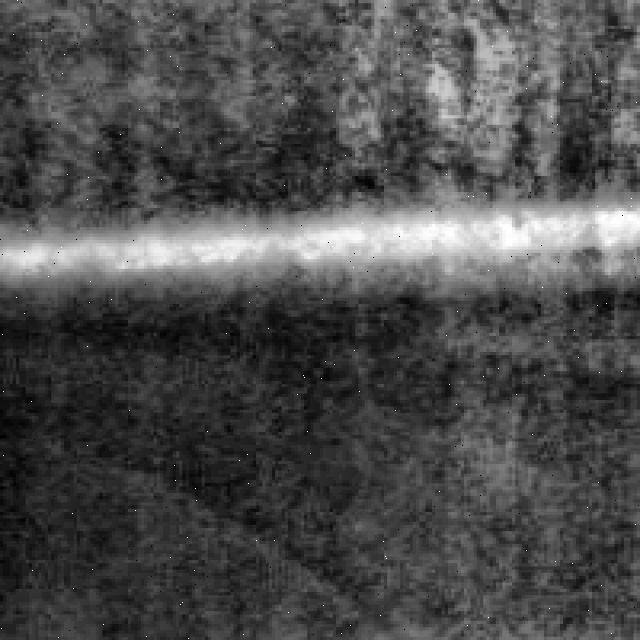Inclusion: (3, 192, 640, 282)
